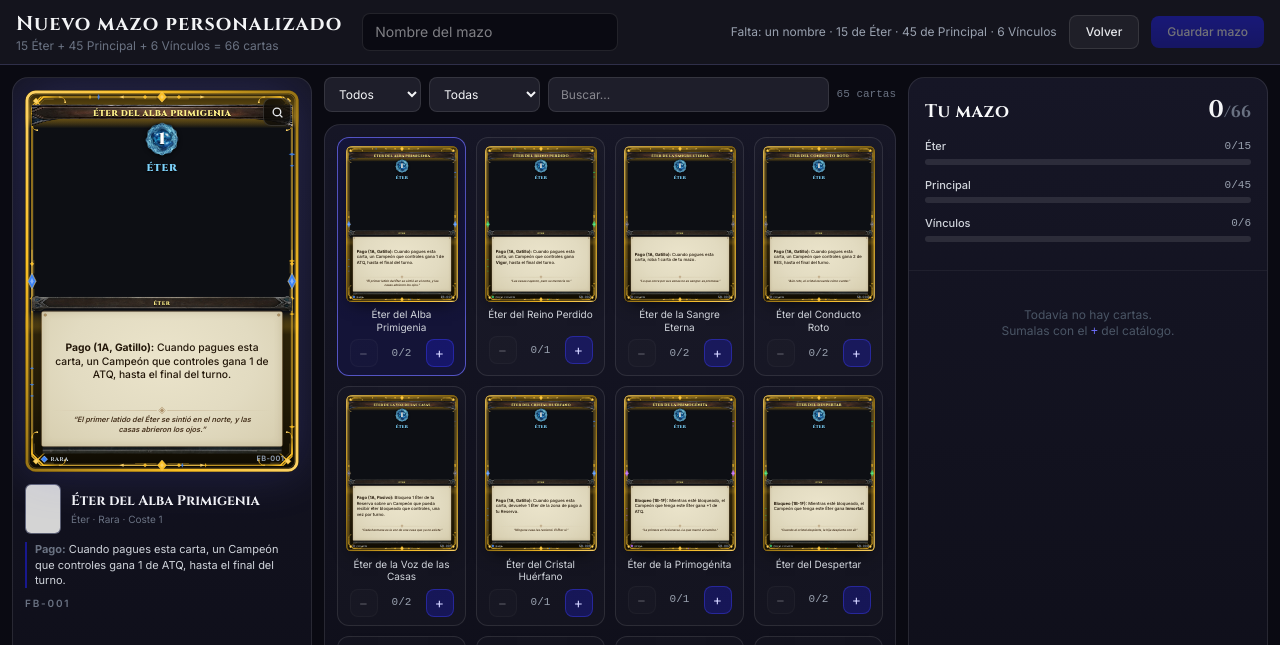
it: MazoEditor › filtra por tipo
The image size is (1280, 645).
Select "Éter" in the dropdown named "Tipo" at [372, 94], box [324,77,421,112]
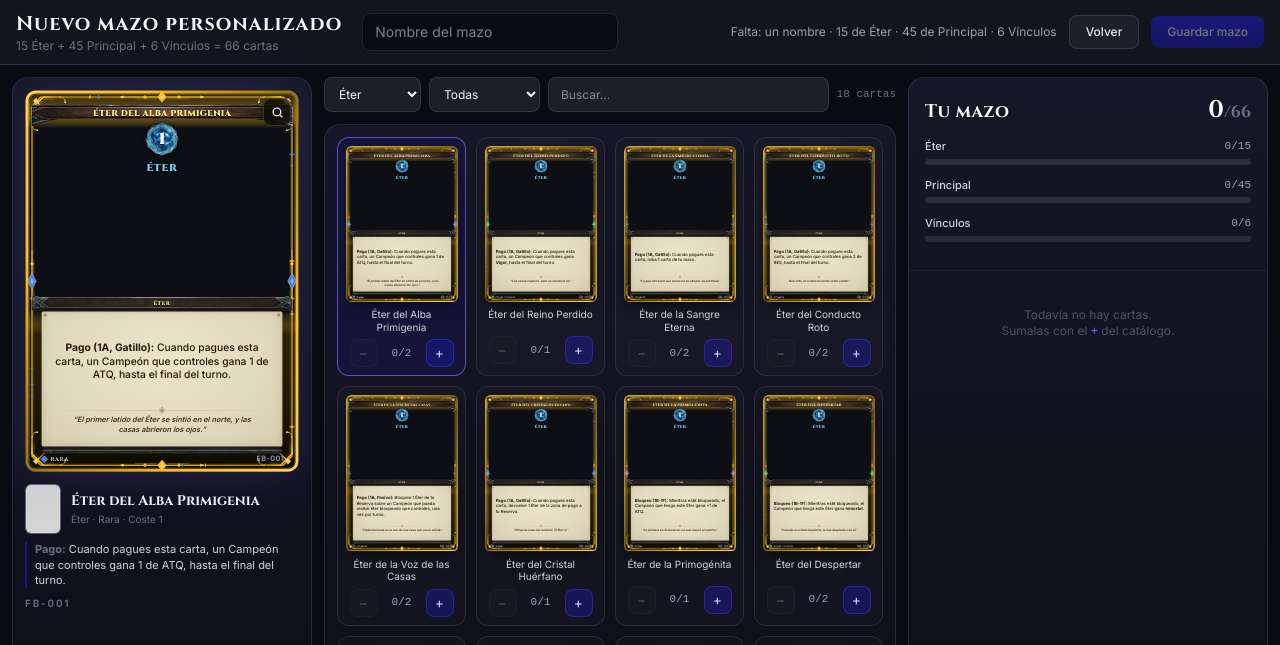
Expected: the 1st text "Éter del Alba Primigenia" is shown, [93,107,231,120]
Expected: the text "Aurora, La Primogénita" is not shown
